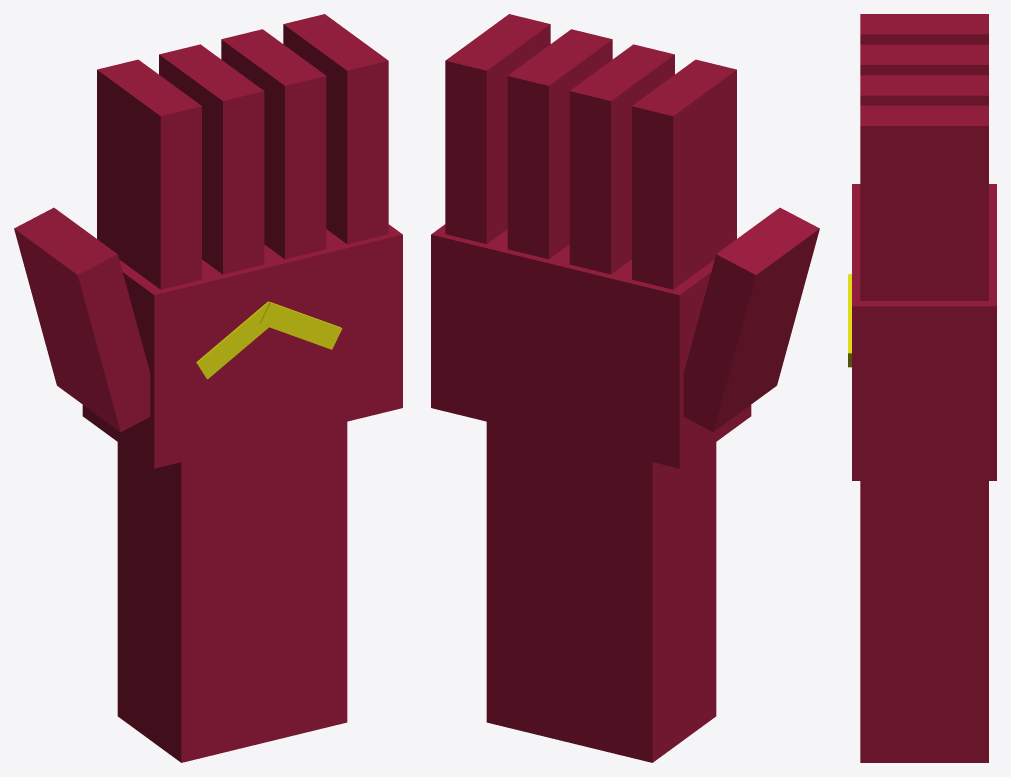
The model's file is DaemonLeftArm.fbx.
3 renders of one model, left to right at view 1: azimuth 30°, elevation 25°; view 2: azimuth 150°, elevation 25°; view 3: azimuth 270°, elevation 25°, orthographic.
Visible parts, largest first — view 1: Cube.002, Cube.009; view 2: Cube.002; view 3: Cube.002, Cube.009.
Boxes of the visible parts, box(x1,y1,x2,y2) form: Cube.002: box(14, 14, 402, 762); Cube.009: box(196, 301, 342, 379); Cube.002: box(431, 14, 819, 762); Cube.002: box(852, 14, 996, 762); Cube.009: box(848, 274, 851, 367).
Bounding box in the file's own units: 93.01 × 180 × 37.
